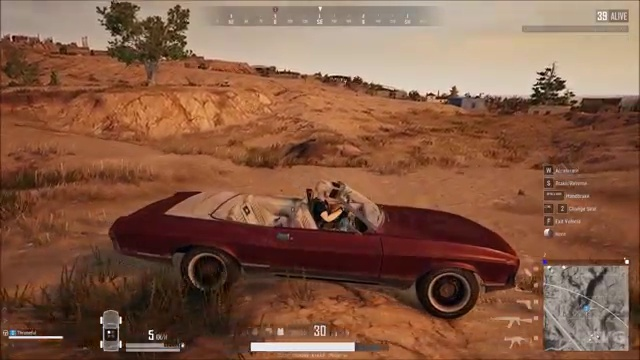Player: (287, 161, 375, 225)
